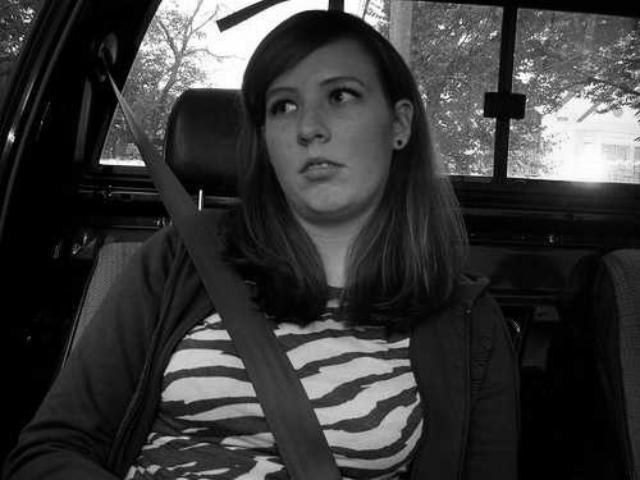SafeDriving: (320, 78, 370, 112), (265, 88, 306, 120)
Seatbelt: (93, 30, 347, 480)
